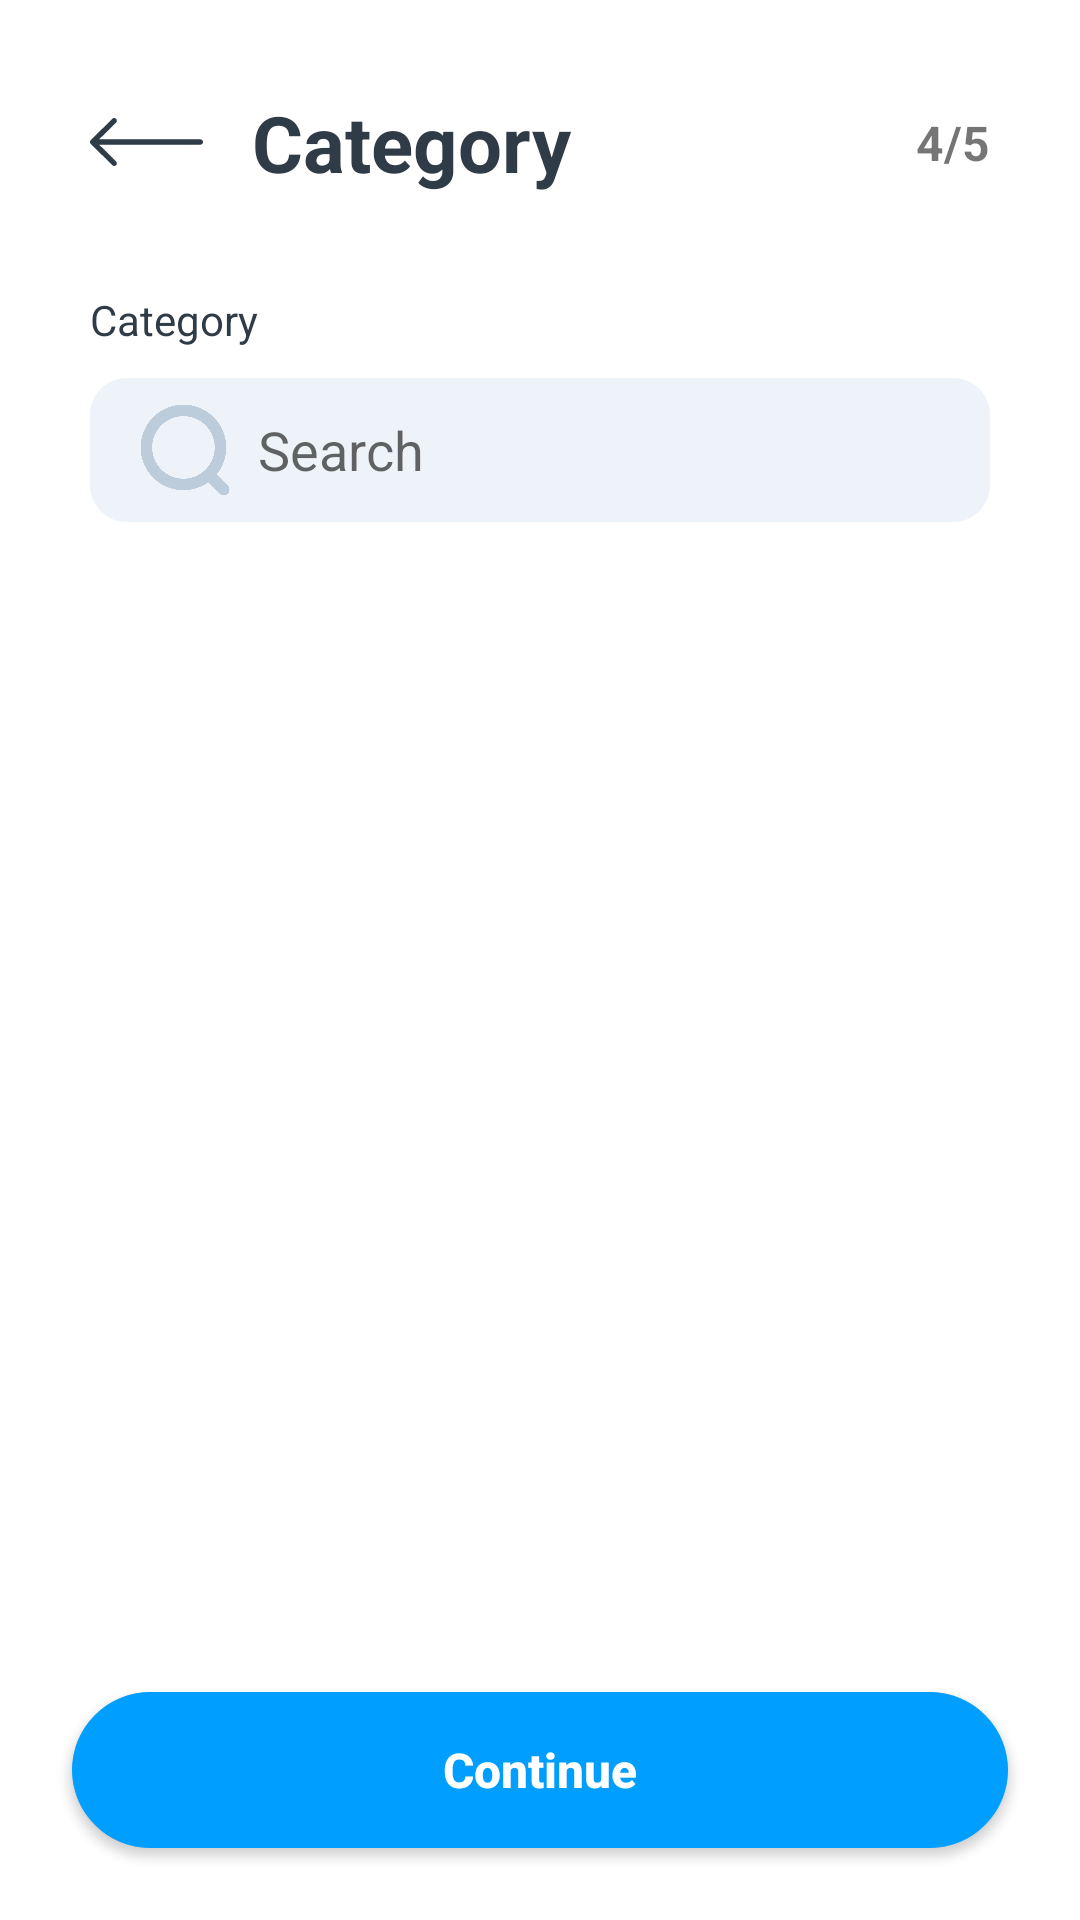

Locate icon controls on the screen. Image size 1080w x 1920h, boxes as box=[x1, y1, x2, y2].
backward: box=[90, 118, 203, 166]
